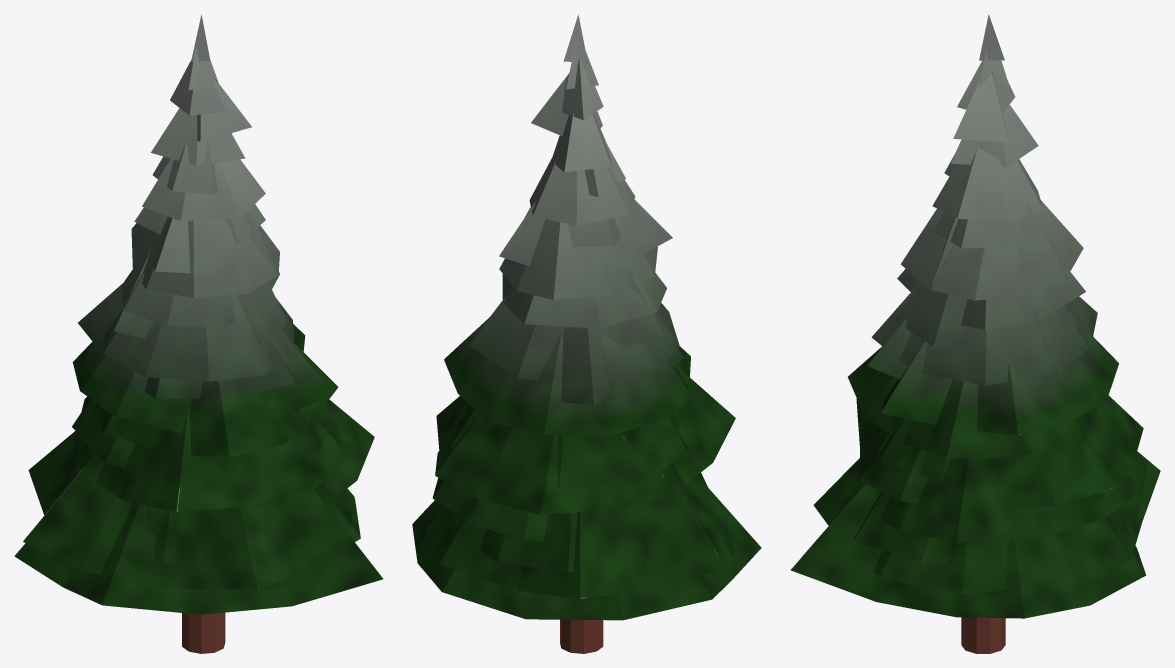
The picture shows the model from 3 angles, left to right: view 1: azimuth 30°, elevation 25°; view 2: azimuth 150°, elevation 25°; view 3: azimuth 270°, elevation 25°; orthographic projection.
Visible parts, largest first — view 1: SpineTree_LOD0; view 2: SpineTree_LOD0; view 3: SpineTree_LOD0.
Boxes of the visible parts, left/top/right/bottom form: SpineTree_LOD0: left=14, top=14, right=383, bottom=653; SpineTree_LOD0: left=412, top=14, right=761, bottom=653; SpineTree_LOD0: left=790, top=14, right=1160, bottom=653.
Size of what is drawn, in the model's own units: 2.6 by 4.89 by 2.6.
